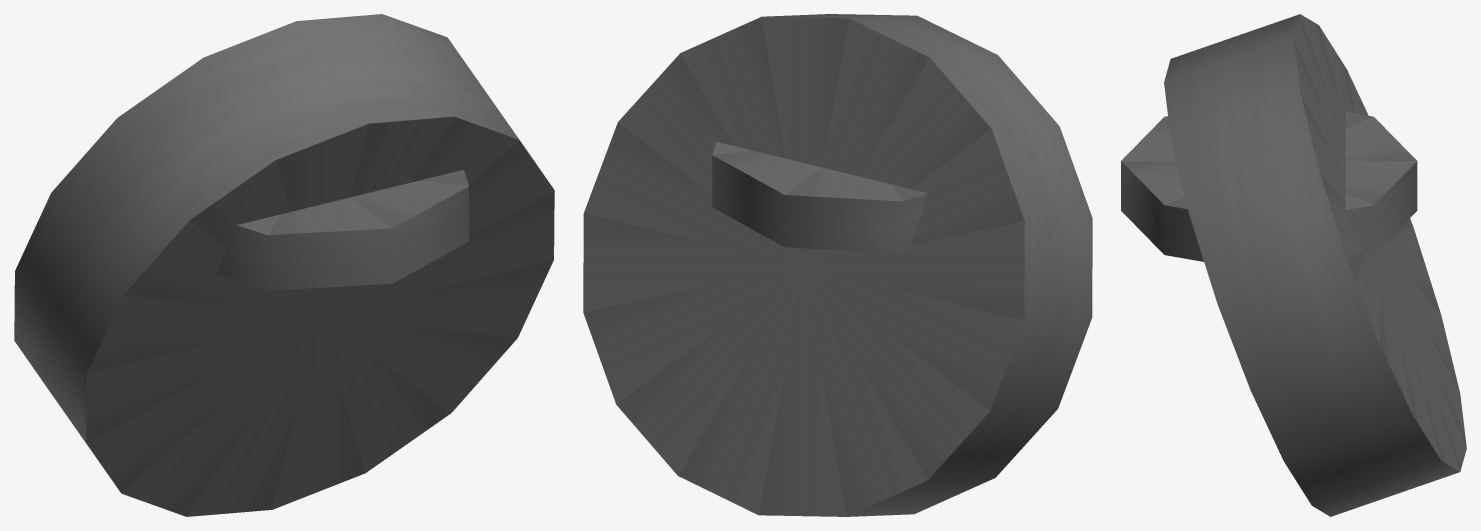
File: mastarmcurve_6x2_c3_up.obj
3 renders of one model, left to right at view 1: azimuth 30°, elevation 25°; view 2: azimuth 150°, elevation 25°; view 3: azimuth 270°, elevation 25°, orthographic. The views are drawn at different scales.
Parts seen in each view (by area): view 1: mastarm_6x2_c3_up; view 2: mastarm_6x2_c3_up; view 3: mastarm_6x2_c3_up.
Part boxes in pixels (<box>): mastarm_6x2_c3_up: <box>14,14,554,516</box>; mastarm_6x2_c3_up: <box>583,14,1092,516</box>; mastarm_6x2_c3_up: <box>1121,14,1466,516</box>.
Bounding box in the file's own units: 0.6555 × 0.6792 × 0.467.
